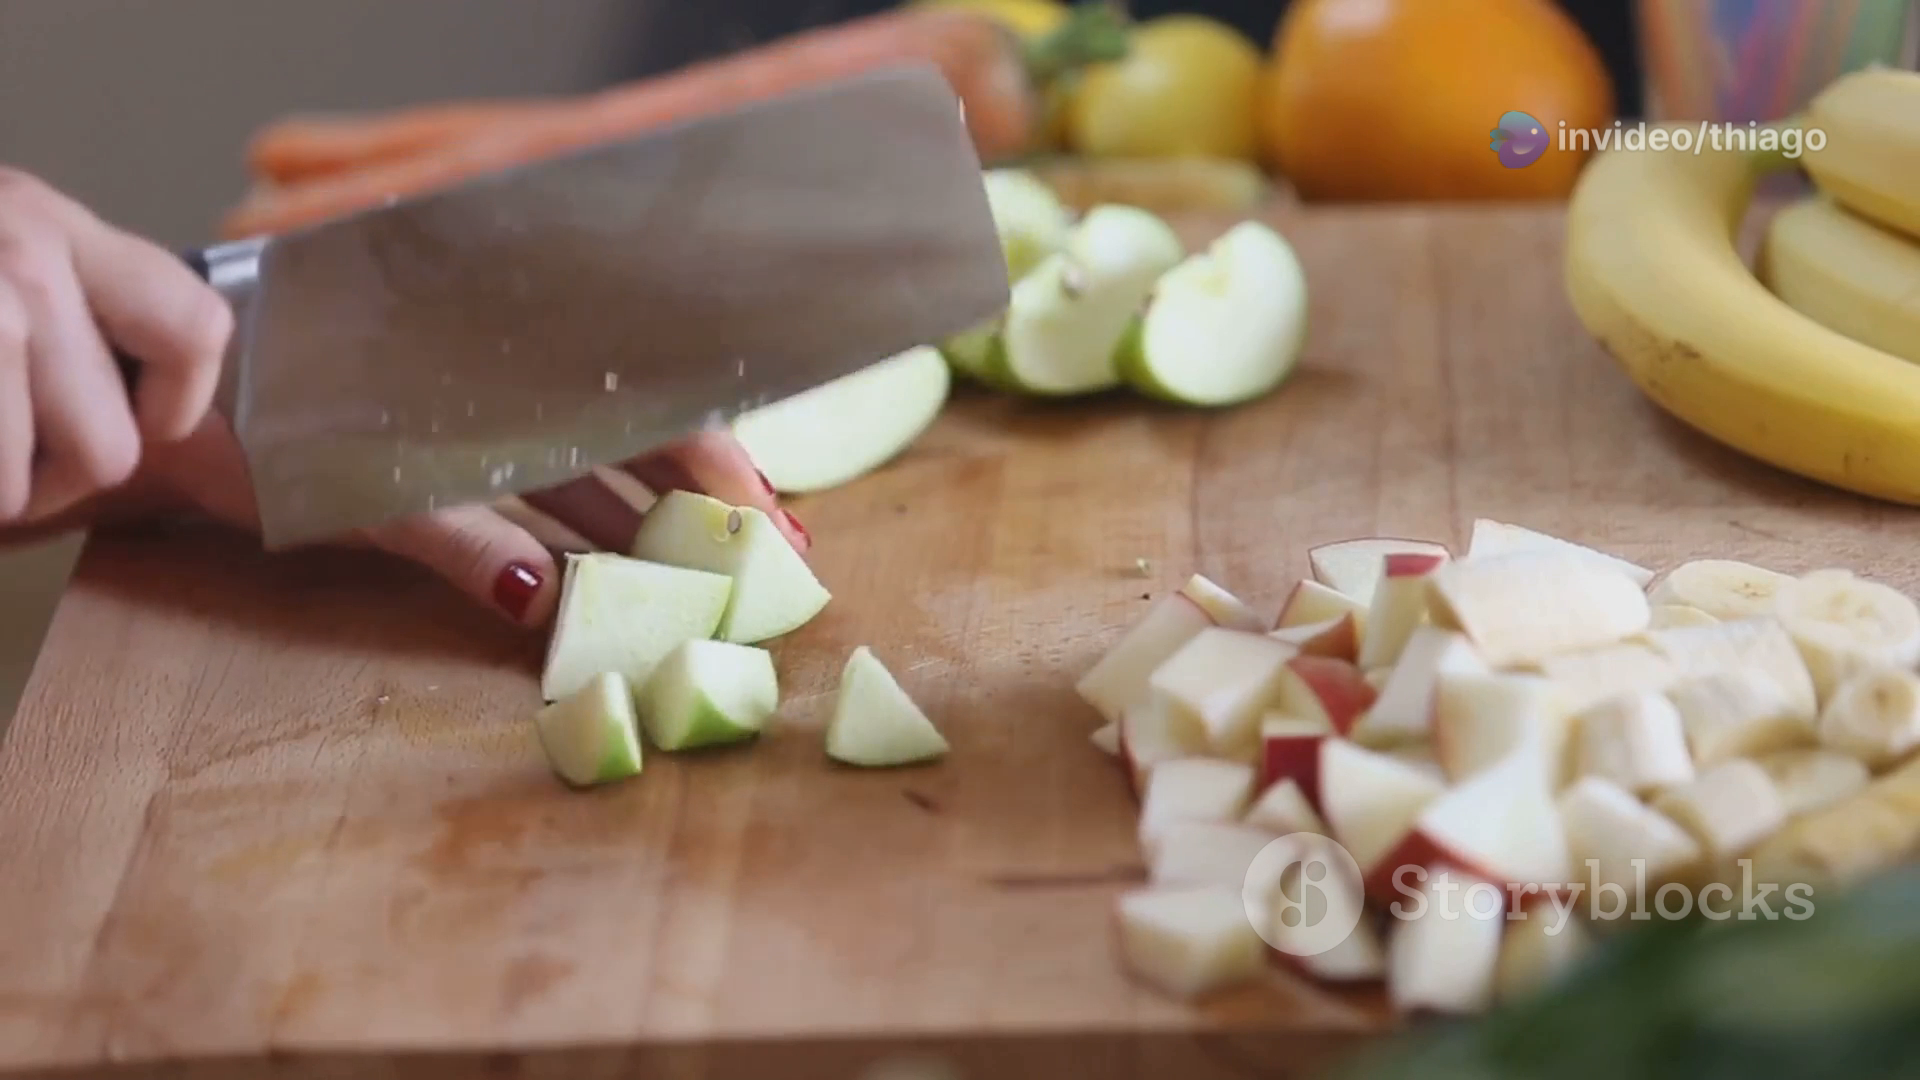cortante: (200, 59, 1013, 551)
